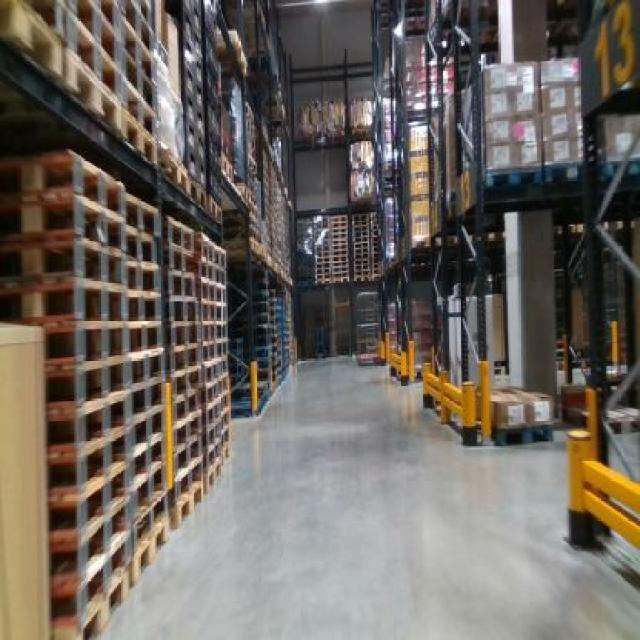pallet: (0, 137, 131, 218), (0, 231, 131, 301), (4, 184, 129, 257), (41, 314, 130, 378)
